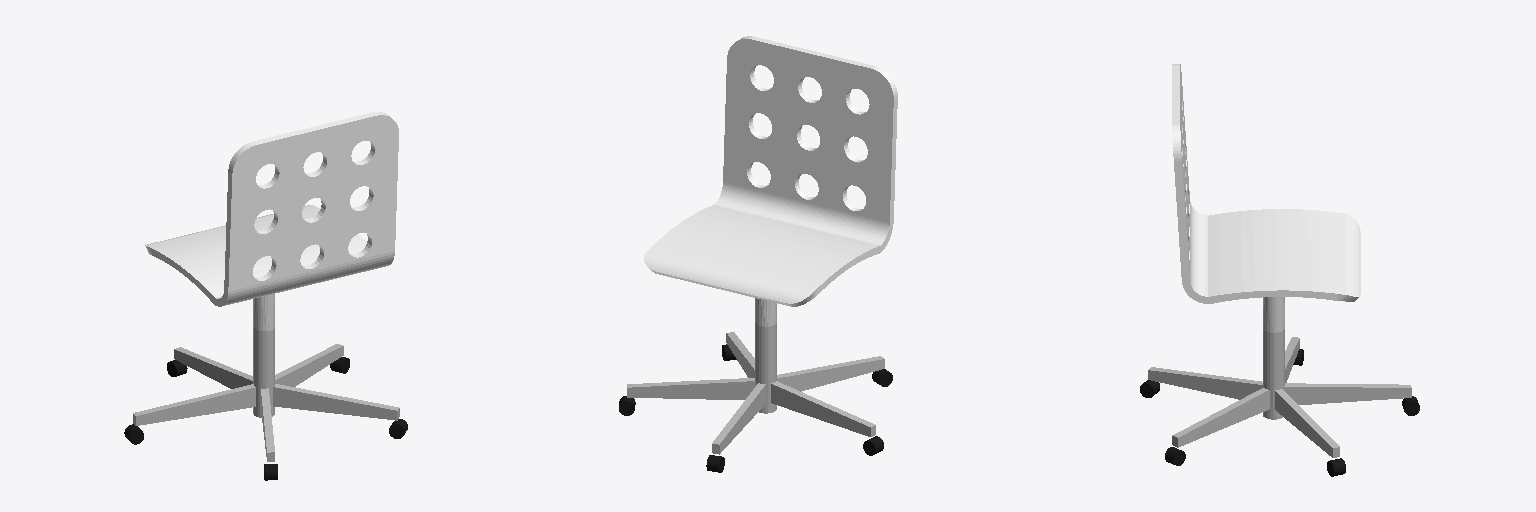
The picture shows the model from 3 angles: view 1: azimuth 30°, elevation 25°; view 2: azimuth 150°, elevation 25°; view 3: azimuth 270°, elevation 25°; orthographic projection.
Visible parts, largest first — view 1: Mesh1 Group2 Group1 Model, Mesh5 Group5 Group3 ske3F1 Group1 Model, Mesh12 Group3 ske3F1 Group1 Model, Mesh7 Group6 Group3 ske3F1 Group1 Model, Mesh3 Group4 Group3 ske3F1 Group1 Model, Mesh11 Group8 Group3 ske3F1 Group1 Model, Mesh9 Group7 Group3 ske3F1 Group1 Model; view 2: Mesh1 Group2 Group1 Model, Mesh11 Group8 Group3 ske3F1 Group1 Model, Mesh12 Group3 ske3F1 Group1 Model, Mesh7 Group6 Group3 ske3F1 Group1 Model, Mesh9 Group7 Group3 ske3F1 Group1 Model, Mesh3 Group4 Group3 ske3F1 Group1 Model, Mesh5 Group5 Group3 ske3F1 Group1 Model; view 3: Mesh1 Group2 Group1 Model, Mesh12 Group3 ske3F1 Group1 Model, Mesh3 Group4 Group3 ske3F1 Group1 Model, Mesh5 Group5 Group3 ske3F1 Group1 Model, Mesh9 Group7 Group3 ske3F1 Group1 Model, Mesh11 Group8 Group3 ske3F1 Group1 Model.
Part boxes in pixels (bbox=[...]): Mesh1 Group2 Group1 Model: bbox=[145, 112, 398, 306]; Mesh5 Group5 Group3 ske3F1 Group1 Model: bbox=[273, 384, 399, 420]; Mesh12 Group3 ske3F1 Group1 Model: bbox=[253, 294, 274, 417]; Mesh7 Group6 Group3 ske3F1 Group1 Model: bbox=[133, 384, 255, 425]; Mesh3 Group4 Group3 ske3F1 Group1 Model: bbox=[174, 347, 252, 388]; Mesh11 Group8 Group3 ske3F1 Group1 Model: bbox=[275, 344, 343, 386]; Mesh9 Group7 Group3 ske3F1 Group1 Model: bbox=[261, 388, 274, 461]; Mesh1 Group2 Group1 Model: bbox=[644, 36, 897, 306]; Mesh11 Group8 Group3 ske3F1 Group1 Model: bbox=[627, 378, 755, 399]; Mesh12 Group3 ske3F1 Group1 Model: bbox=[755, 298, 776, 413]; Mesh7 Group6 Group3 ske3F1 Group1 Model: bbox=[771, 381, 875, 436]; Mesh9 Group7 Group3 ske3F1 Group1 Model: bbox=[777, 356, 884, 391]; Mesh3 Group4 Group3 ske3F1 Group1 Model: bbox=[712, 383, 765, 454]; Mesh5 Group5 Group3 ske3F1 Group1 Model: bbox=[726, 332, 754, 377]; Mesh1 Group2 Group1 Model: bbox=[1172, 64, 1360, 303]; Mesh12 Group3 ske3F1 Group1 Model: bbox=[1263, 297, 1284, 419]; Mesh3 Group4 Group3 ske3F1 Group1 Model: bbox=[1284, 383, 1411, 404]; Mesh5 Group5 Group3 ske3F1 Group1 Model: bbox=[1172, 388, 1269, 447]; Mesh9 Group7 Group3 ske3F1 Group1 Model: bbox=[1148, 367, 1262, 399]; Mesh11 Group8 Group3 ske3F1 Group1 Model: bbox=[1275, 389, 1339, 457].
Bounding box in the file's own units: 0.5447 × 0.7021 × 0.5442.